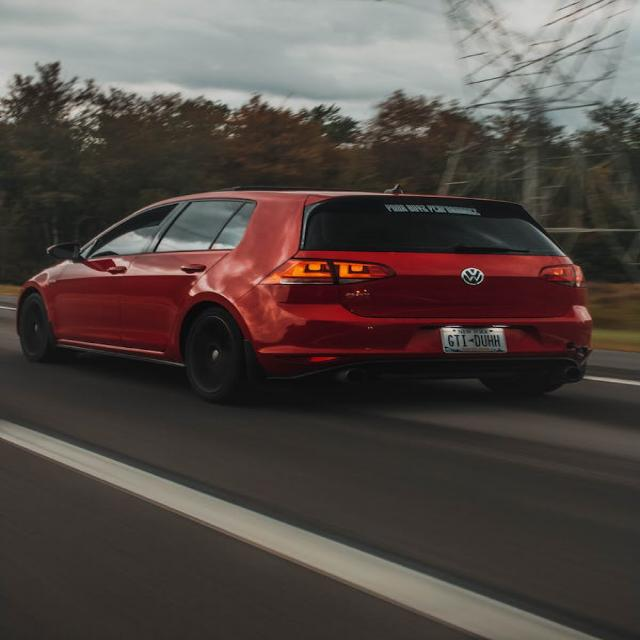yolov7-seg-car: (15, 184, 594, 403)
